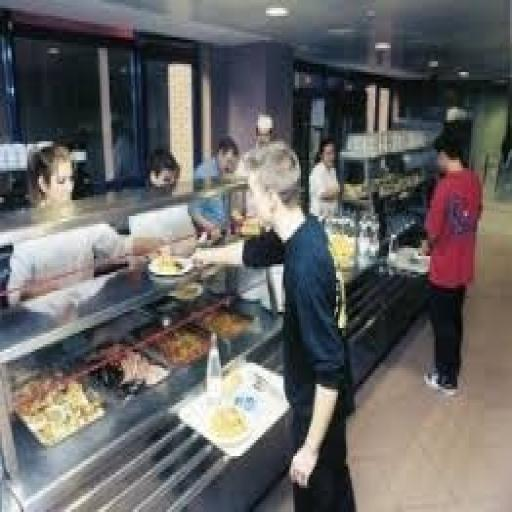eating: (105, 72, 512, 458)
